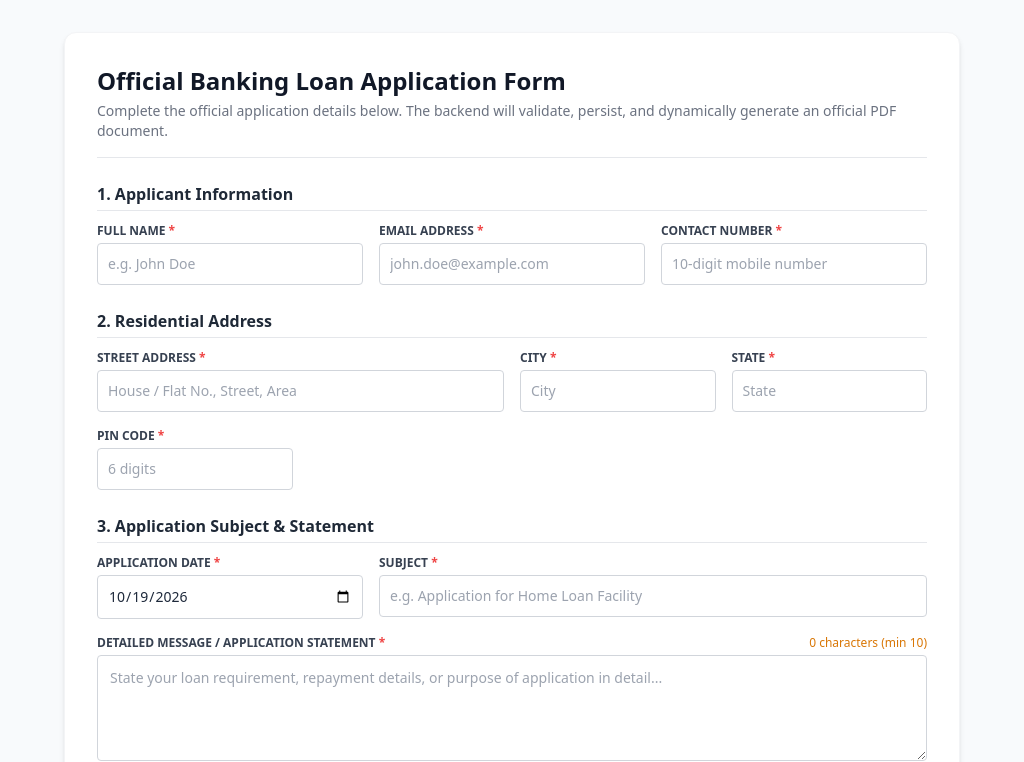
it: shows error when contact number is not 10 digits
This screenshot has width=1024, height=762.
Type "12345" into the field labelled "Contact Number *". click: (794, 264)
box: [661, 243, 927, 285]
(page scrolled)
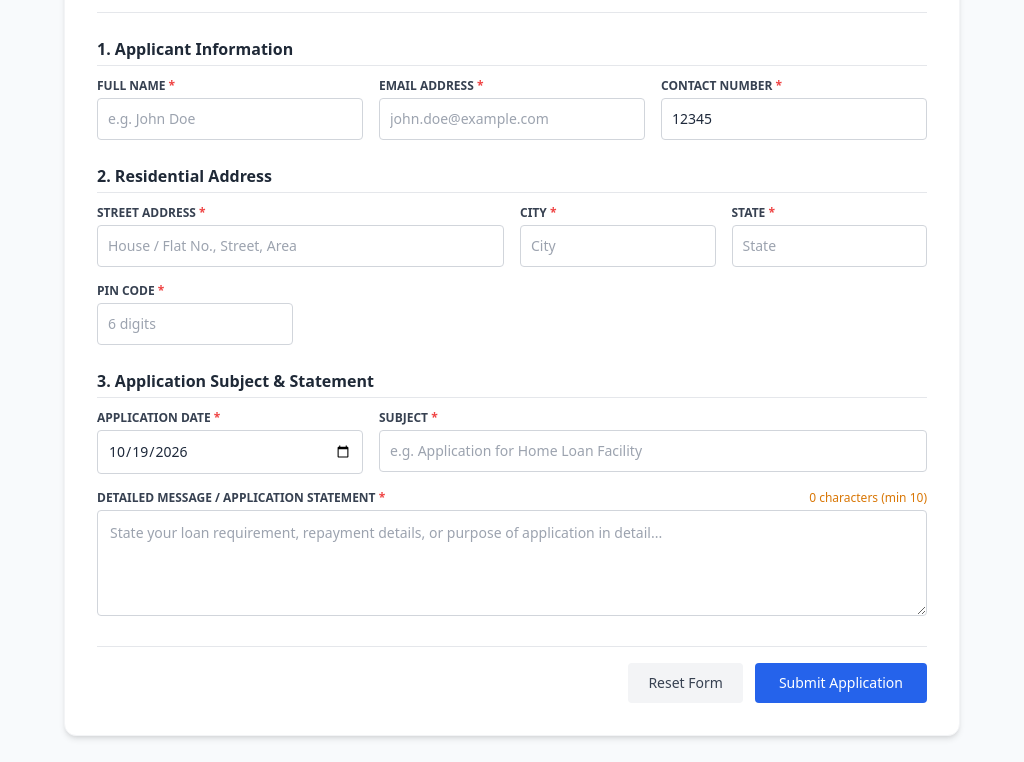
Click the button "Submit Application". click: (841, 683)
box: [755, 663, 927, 703]
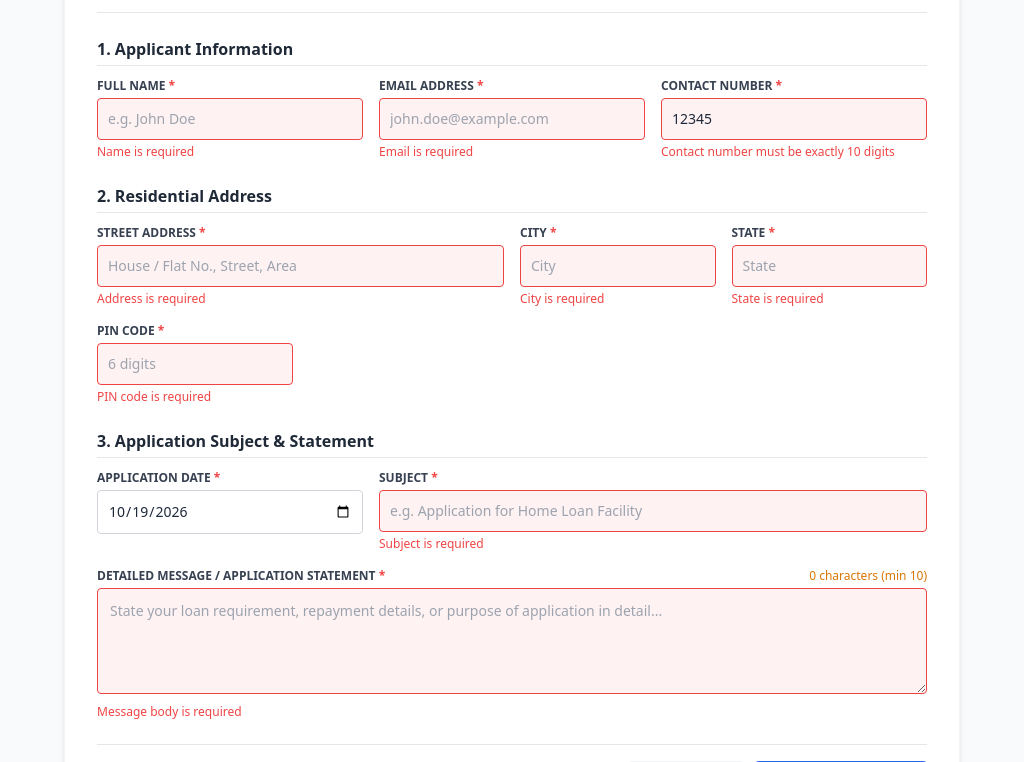
Result: the text "Contact number must be exactly 10 digits" is shown at [661, 144, 927, 160]
